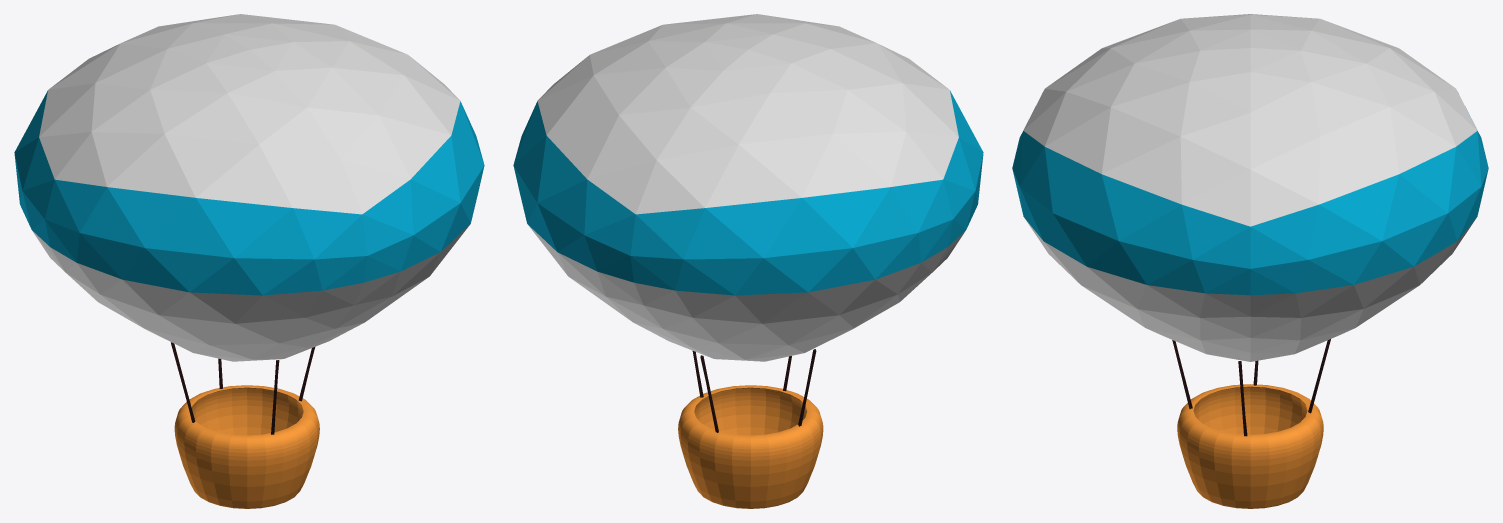
Rendered from ballon.dae.
3 renders of one model, left to right at view 1: azimuth 30°, elevation 25°; view 2: azimuth 150°, elevation 25°; view 3: azimuth 270°, elevation 25°, orthographic.
Parts seen in each view (by area): view 1: 气球, 底座; view 2: 气球, 底座; view 3: 气球, 底座.
Part boxes in pixels (box(x1,y1,x2,y2)): 气球: box(14, 14, 484, 361); 底座: box(174, 385, 319, 508); 气球: box(513, 14, 983, 361); 底座: box(678, 385, 823, 508); 气球: box(1012, 14, 1488, 361); 底座: box(1177, 384, 1323, 508).
Bounding box in the file's own units: 576 × 586 × 576.
